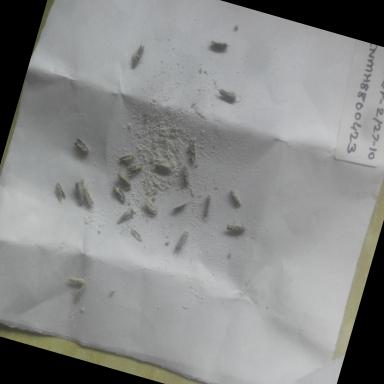pbw: (148, 152, 176, 186), (67, 176, 91, 214), (124, 38, 148, 74), (170, 223, 194, 259), (180, 136, 206, 168), (221, 184, 248, 213), (68, 135, 96, 162), (213, 84, 245, 107), (223, 216, 251, 240), (78, 184, 100, 212), (140, 196, 162, 220), (199, 193, 217, 222), (176, 162, 196, 188), (50, 180, 70, 205), (124, 159, 146, 181), (70, 279, 88, 305), (114, 171, 138, 190), (207, 36, 232, 54), (116, 148, 138, 168), (114, 206, 134, 228), (66, 272, 90, 289), (110, 184, 130, 204), (172, 198, 190, 216)
